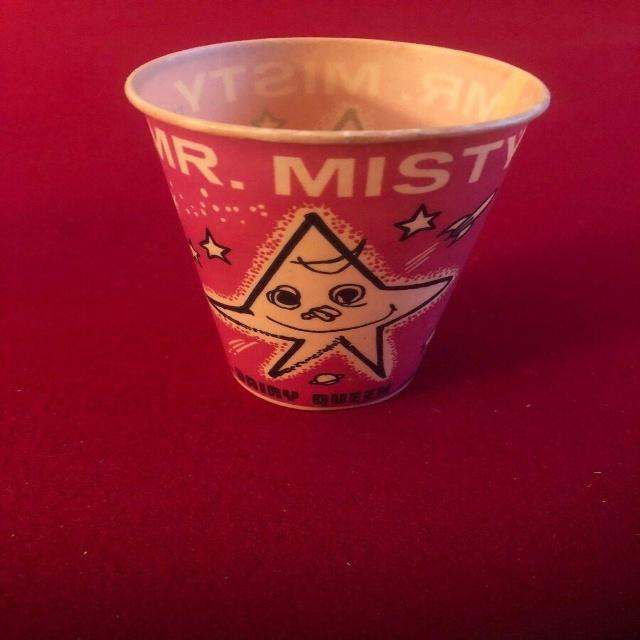paper_cup: (107, 31, 569, 426)
